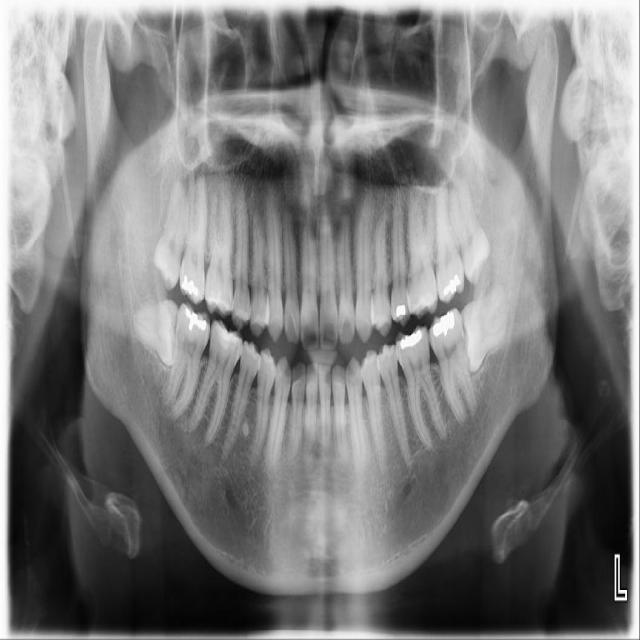3M ESPE Implant: (147, 179, 198, 292)
52: (420, 306, 473, 361), (166, 300, 220, 352), (434, 252, 467, 305), (395, 324, 430, 372), (179, 257, 205, 305), (389, 284, 412, 328)
73: (593, 568, 599, 576)
BioHorizons Implant: (432, 171, 465, 305)
BioLife Implant: (439, 173, 498, 286)
Biomet 3i Implant: (455, 286, 508, 373)
Blue Sky Bio Implant: (423, 307, 481, 426)
Caries: (178, 159, 210, 305)
Implant: (159, 299, 215, 424)
Keystone Dental Implant: (129, 296, 181, 366)
